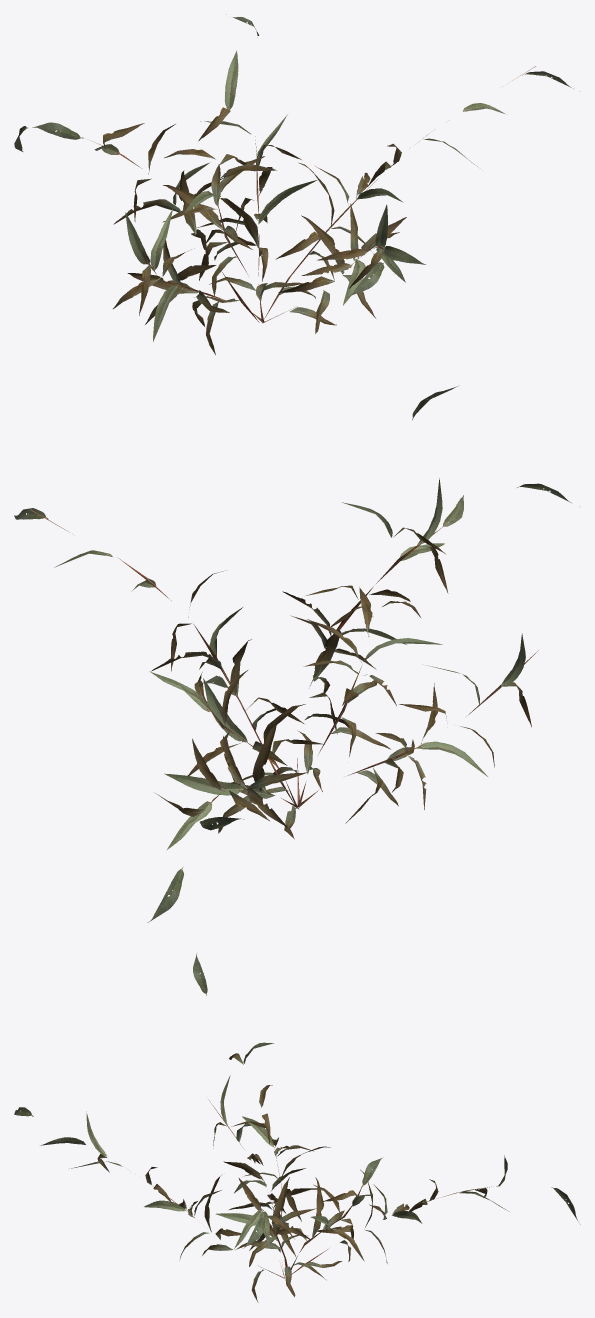
File: shrub2.glb
3 renders of one model, top to bottom at view 1: azimuth 30°, elevation 25°; view 2: azimuth 150°, elevation 25°; view 3: azimuth 270°, elevation 25°, orthographic. The views are drawn at different scales.
Visible parts, largest first — view 1: lod1; view 2: lod1; view 3: lod1.
Boxes of the visible parts, x1,y1,x2,y2 form: lod1: (14,17,573,354); lod1: (14,385,579,922); lod1: (14,954,580,1302).
Bounding box in the file's own units: 1.39 × 1.08 × 1.89.
Materials: 1 (1 with a texture image).
